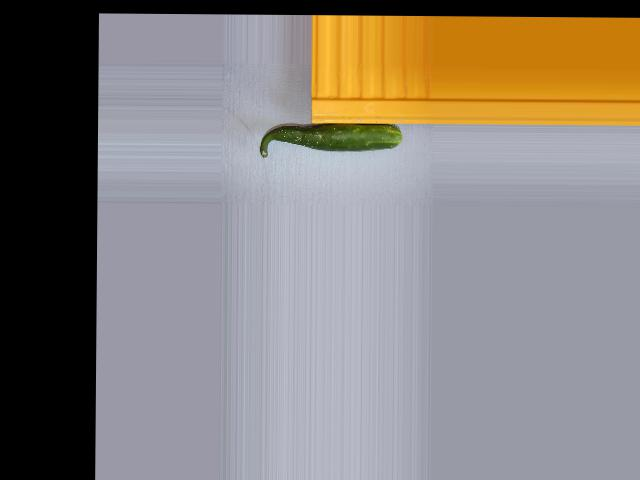cucumber: (258, 122, 401, 159)
